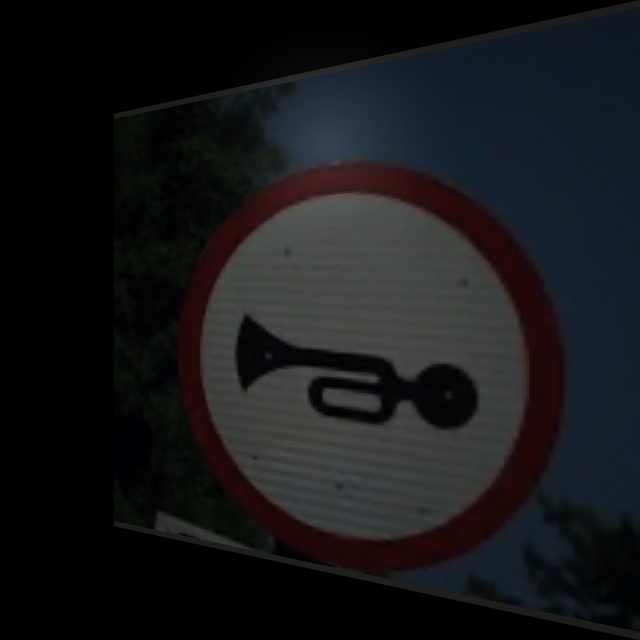Compulsory_Sound_Horn: (185, 145, 548, 573)
